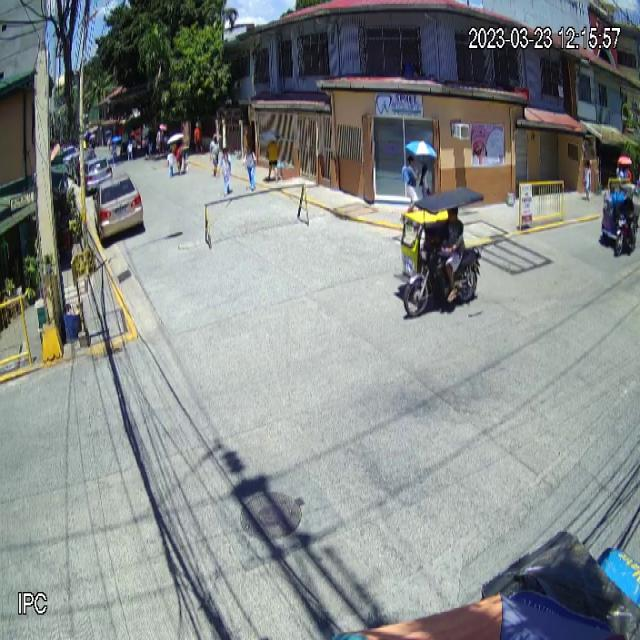Tricycle: (400, 185, 484, 319)
